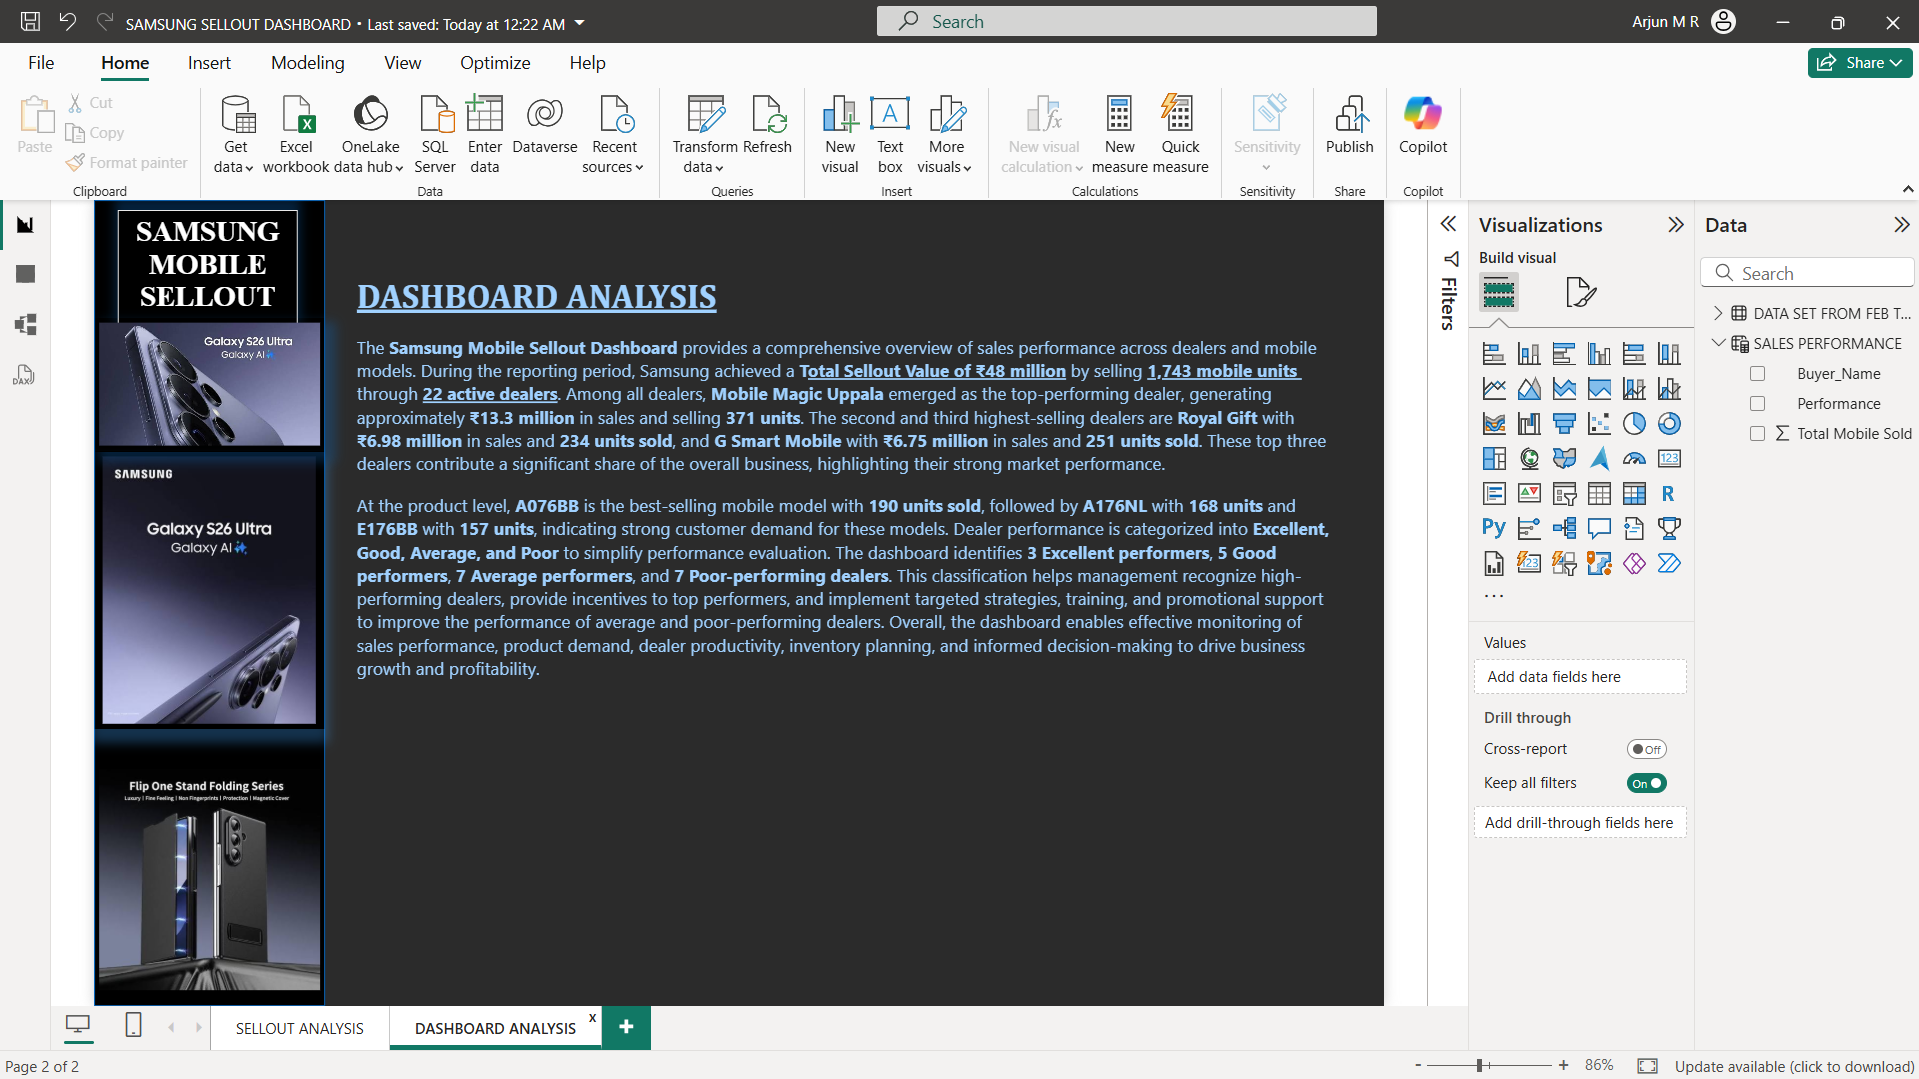

The dashboard page shown, as its layout file describes it:
{"tool":"powerbi","page":{"name":"DASHBOARD ANALYSIS","canvas":[1200,750],"ordinal":1},"visuals":[{"type":"shape","box":[0,0,215.2,750.2],"z":0},{"type":"textbox","box":[22.1,9.3,167.5,111.7],"z":1000},{"type":"image","box":[0,233.8,215.2,258.2],"z":20000},{"type":"image","box":[0,109.3,215.2,124.5],"z":21000},{"type":"image","box":[0,515.3,215.2,235],"z":22000},{"type":"textbox","box":[239.6,121,922.4,411.8],"z":22001},{"type":"textbox","box":[240,65.6,425.6,50],"z":22002}]}

Visuals, with their boxes on the page's 1200x750 design canvas (x1, y1, x2, y2). These are canvas units, not pixel positions in the 1919x1079 screenshot, which may show the page scaled, cropped or inside an application window:
shape: BBox(0, 0, 215, 750)
textbox: BBox(22, 9, 190, 121)
image: BBox(0, 234, 215, 492)
image: BBox(0, 109, 215, 234)
image: BBox(0, 515, 215, 750)
textbox: BBox(240, 121, 1162, 533)
textbox: BBox(240, 66, 666, 116)
